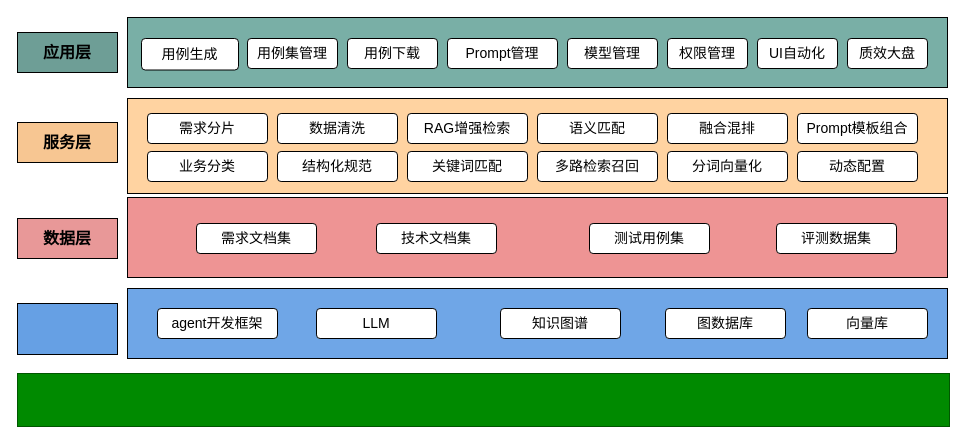
Image size: 967x444. Some labels were removed from this diagram. The shapes that lost their labels are listed below. From the top down, each one's box as (x1, y1, x2, y2) in pixels, then its label:
(16, 302, 118, 354): 基础层
(16, 372, 950, 426): AI模型底座
